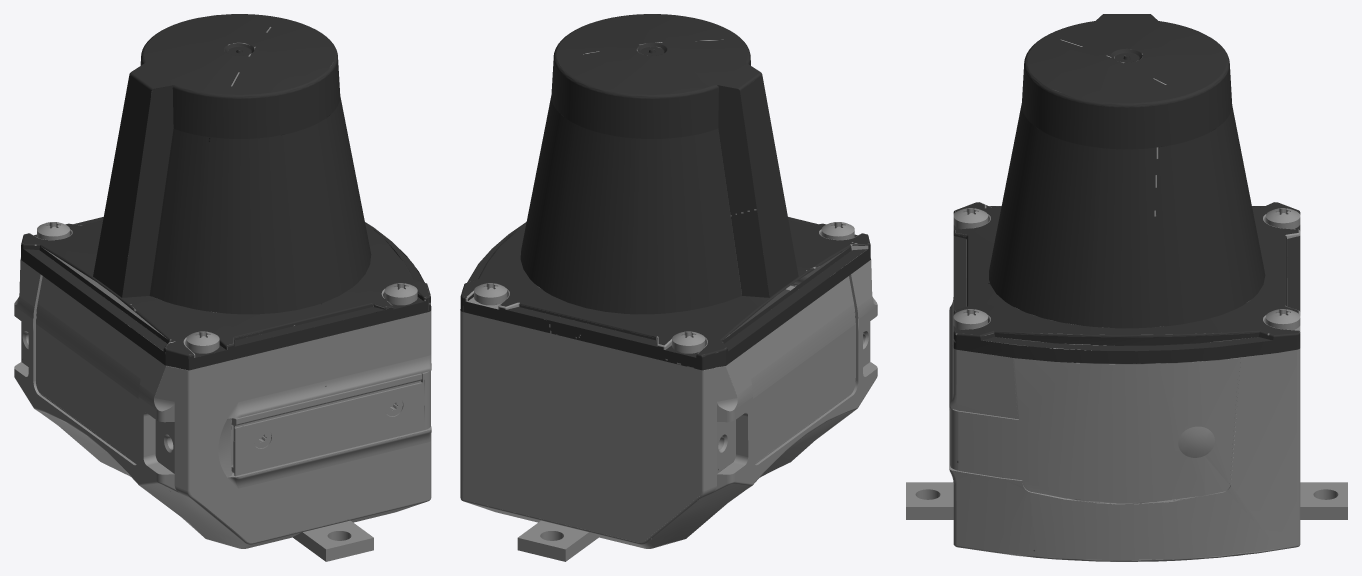
Rendered from sick_lidar_assy.dae.
The picture shows the model from 3 angles, left to right: view 1: azimuth 30°, elevation 25°; view 2: azimuth 150°, elevation 25°; view 3: azimuth 270°, elevation 25°; orthographic projection. The views are drawn at different scales.
Parts seen in each view (by area): view 1: Object; view 2: Object; view 3: Object.
Part boxes in pixels (left/top/right/bottom): Object: left=14, top=14, right=431, bottom=561; Object: left=460, top=14, right=877, bottom=561; Object: left=906, top=14, right=1347, bottom=561.
Bounding box in the file's own units: 0.061 × 0.0764 × 0.0858.
Materials: 1 (1 with a texture image).
